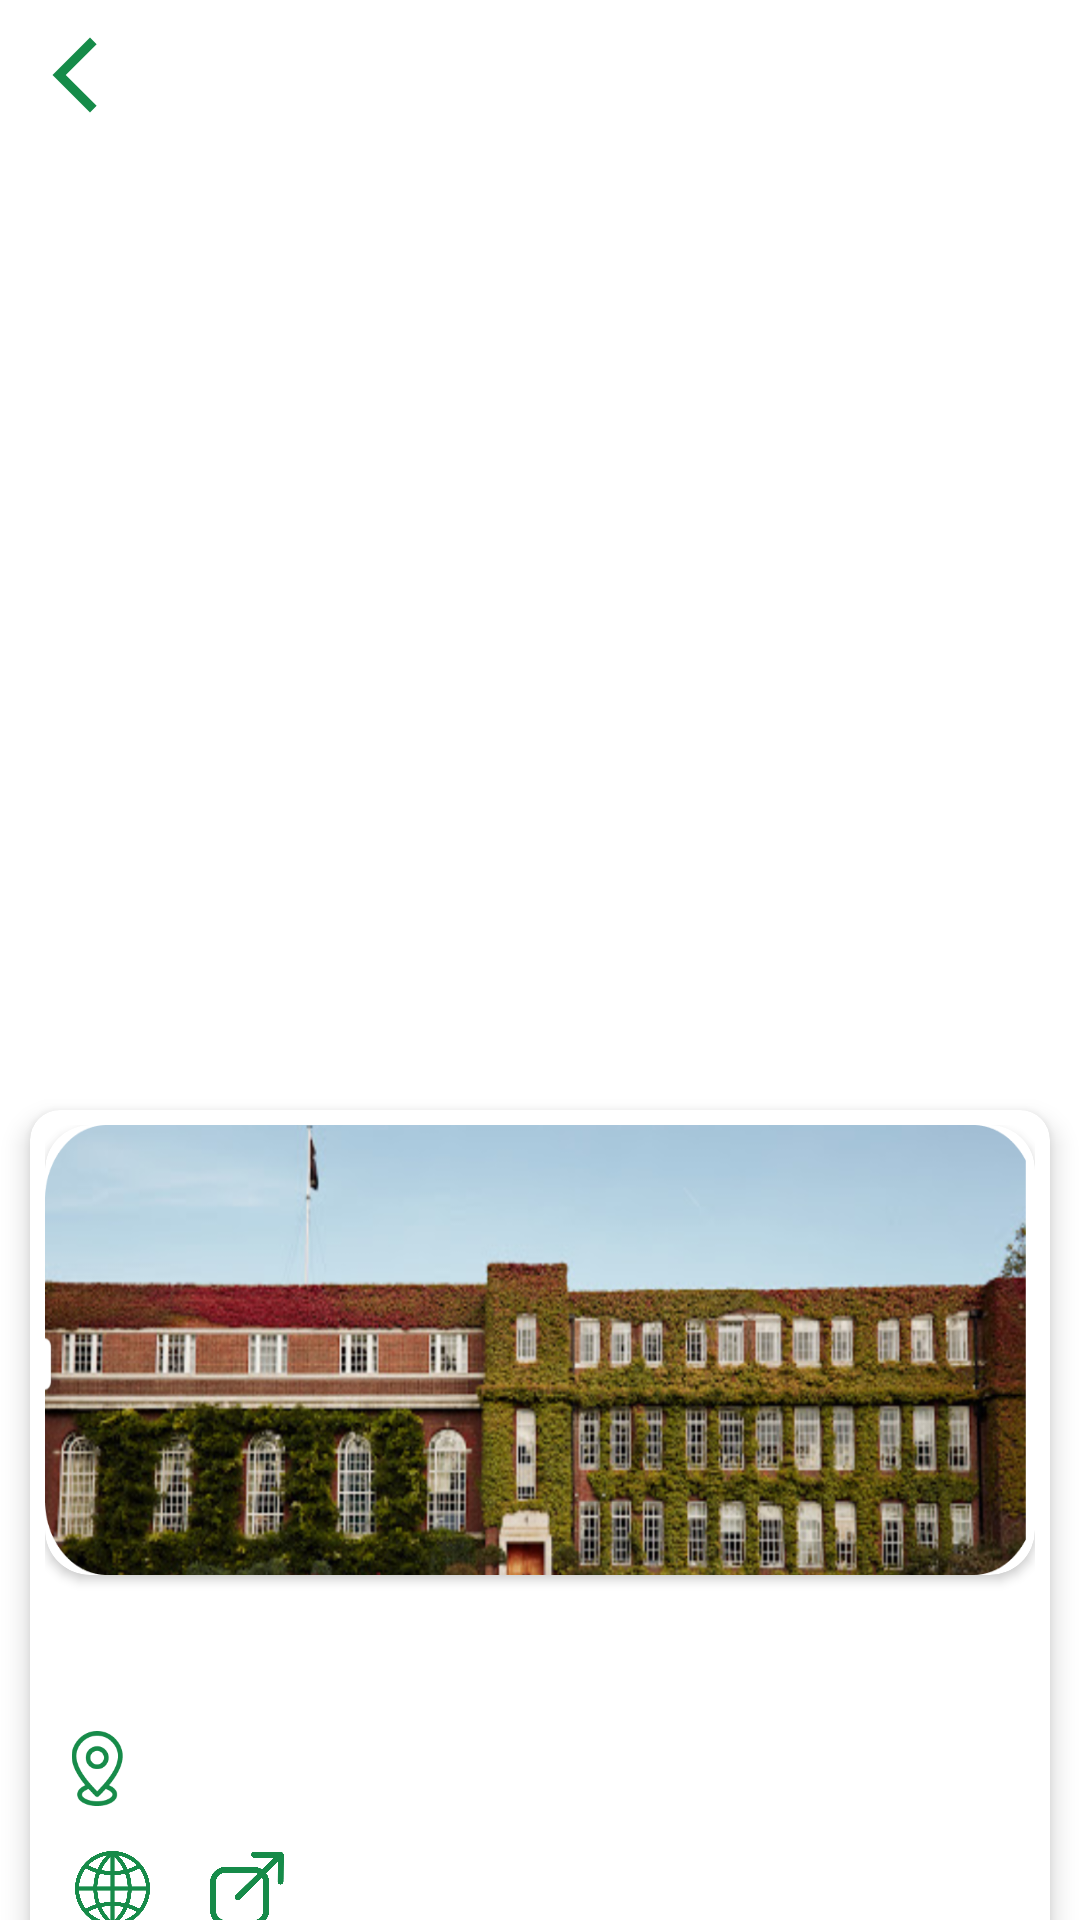

Named icons in this screenshot (1080×1920) and their bounding boxes, Rect(x1, y1, x2, y2):
back: Rect(52, 37, 97, 113)
location: Rect(72, 1731, 123, 1806)
visit: Rect(210, 1852, 284, 1920)
world: Rect(75, 1851, 150, 1920)
